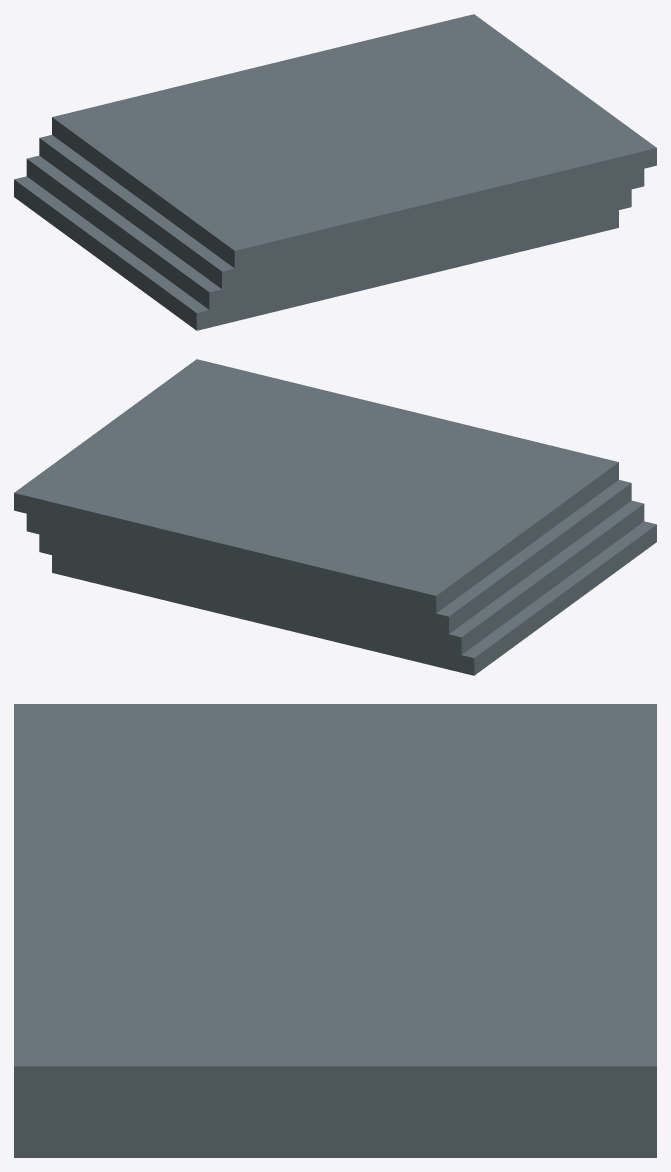
Rendered from zombie-quarantine-streets-stacked-road-plates-ff335a1c__19358.glb.
3 renders of one model, top to bottom at view 1: azimuth 30°, elevation 25°; view 2: azimuth 150°, elevation 25°; view 3: azimuth 270°, elevation 25°, orthographic. The views are drawn at different scales.
Parts seen in each view (by area): view 1: stacked-road-plates; view 2: stacked-road-plates; view 3: stacked-road-plates.
Part boxes in pixels (x1=…): stacked-road-plates: x1=14, y1=14, x2=656, y2=330; stacked-road-plates: x1=14, y1=359, x2=656, y2=675; stacked-road-plates: x1=14, y1=704, x2=656, y2=1157.
Size of the model in its own units: 2.18 by 0.3199 by 1.5.
